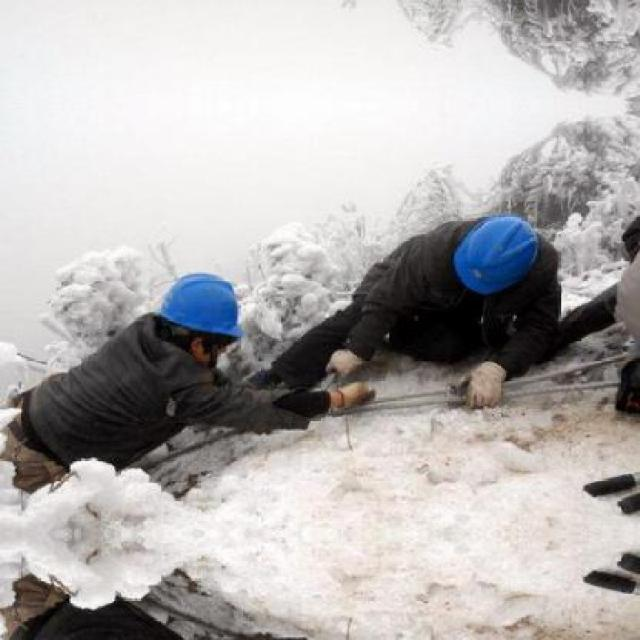helmet: (148, 262, 252, 372), (457, 213, 543, 298)
